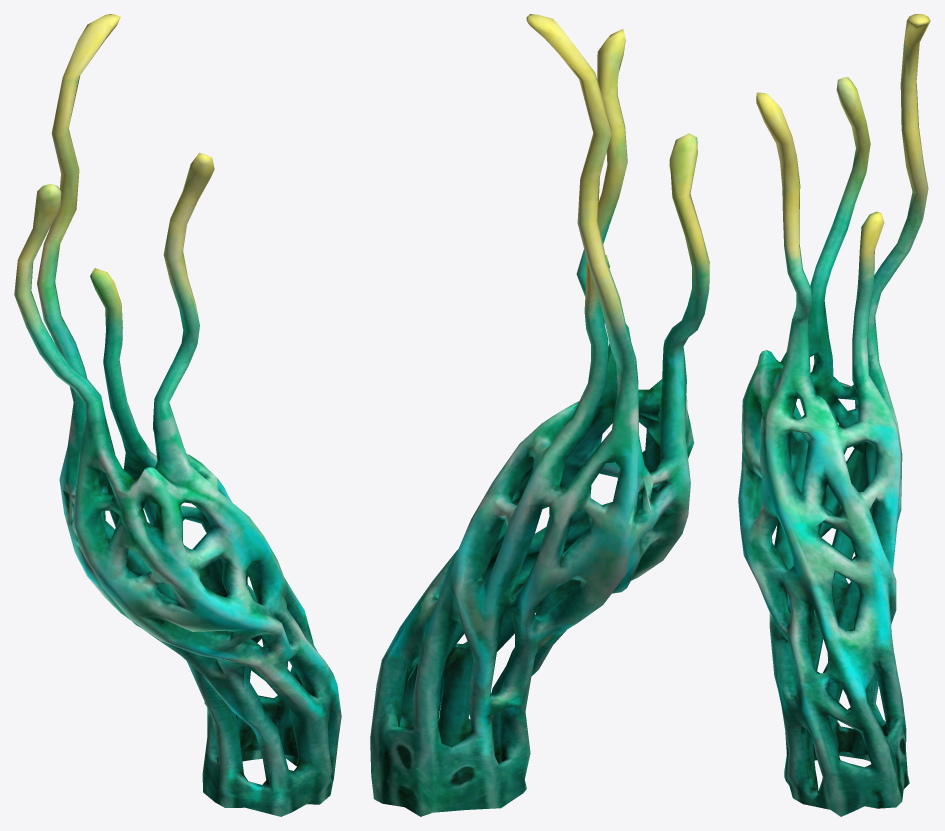
Rendered from flora_2.obj.
3 renders of one model, left to right at view 1: azimuth 30°, elevation 25°; view 2: azimuth 150°, elevation 25°; view 3: azimuth 270°, elevation 25°, orthographic. The views are drawn at different scales.
Parts seen in each view (by area): view 1: FrozenRiver_plant_01_d_LOD0_Material.001_0; view 2: FrozenRiver_plant_01_d_LOD0_Material.001_0; view 3: FrozenRiver_plant_01_d_LOD0_Material.001_0.
Boxes of the visible parts, bbox=[...] form: FrozenRiver_plant_01_d_LOD0_Material.001_0: bbox=[14, 14, 341, 816]; FrozenRiver_plant_01_d_LOD0_Material.001_0: bbox=[370, 14, 709, 816]; FrozenRiver_plant_01_d_LOD0_Material.001_0: bbox=[738, 14, 930, 816].
Size of the model in its own units: 4.97 by 11.99 by 2.91.
1 material, 1 textured.
